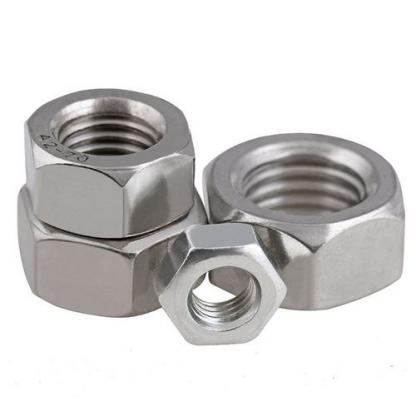FOD: (202, 130, 406, 312), (15, 175, 209, 321), (18, 84, 199, 232), (151, 219, 287, 350)
